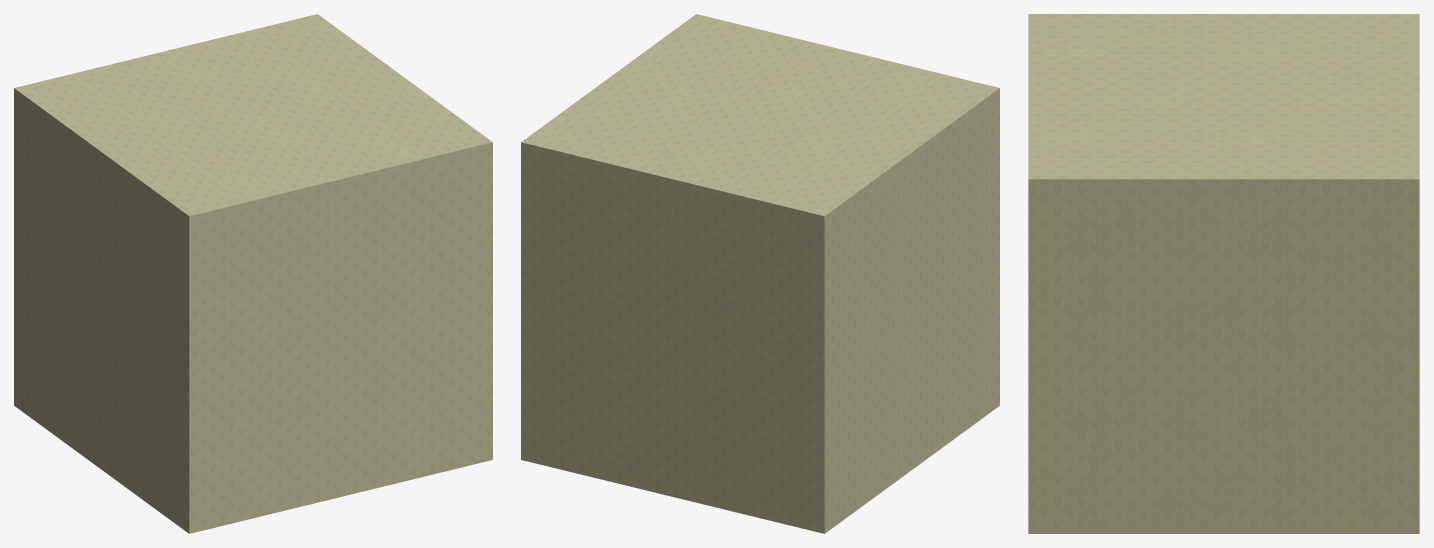
The model's file is wall.glb.
The picture shows the model from 3 angles, left to right: view 1: azimuth 30°, elevation 25°; view 2: azimuth 150°, elevation 25°; view 3: azimuth 270°, elevation 25°; orthographic projection. The views are drawn at different scales.
Parts seen in each view (by area): view 1: Cube; view 2: Cube; view 3: Cube.
Boxes of the visible parts, left/top/right/bottom form: Cube: left=14, top=14, right=492, bottom=533; Cube: left=521, top=14, right=999, bottom=533; Cube: left=1028, top=14, right=1419, bottom=533.
Bounding box in the file's own units: 1 × 1 × 1.
1 material, 1 textured.
